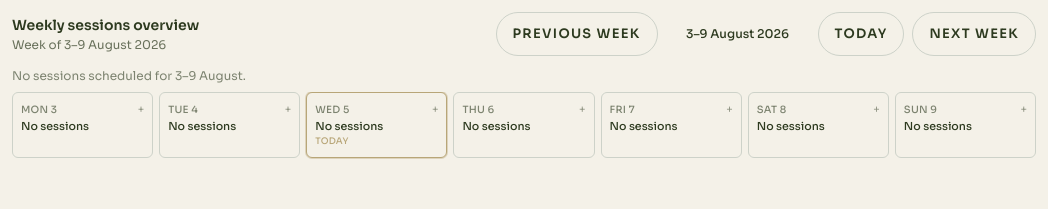
Scenario: WeeklySessionsOverview › shows empty day and empty week messaging
Expected: the text "No sessions scheduled for 3–9 August." is shown, [12,68,246,83]
Click the button with aria-label "Expand Monday, 3 August: No sessions" at (83, 117), box [13,93,152,141]
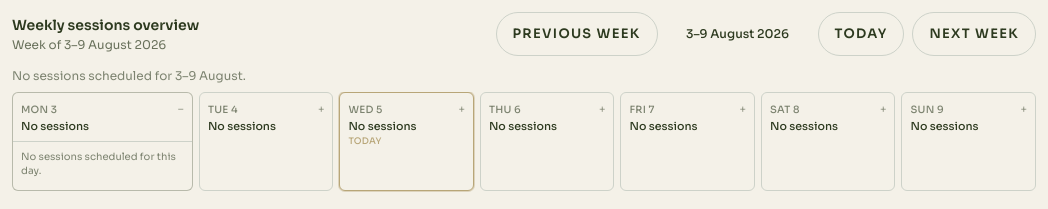
Now the text "No sessions scheduled for this day." is shown, box [13,142,192,186]
